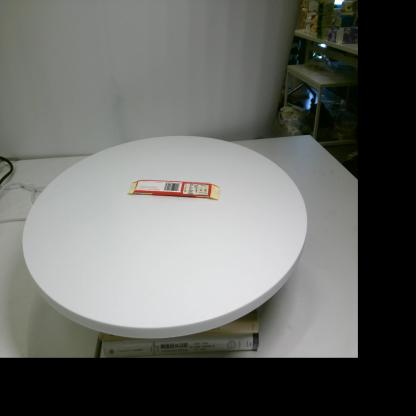Chocolate: (128, 180, 219, 200)
